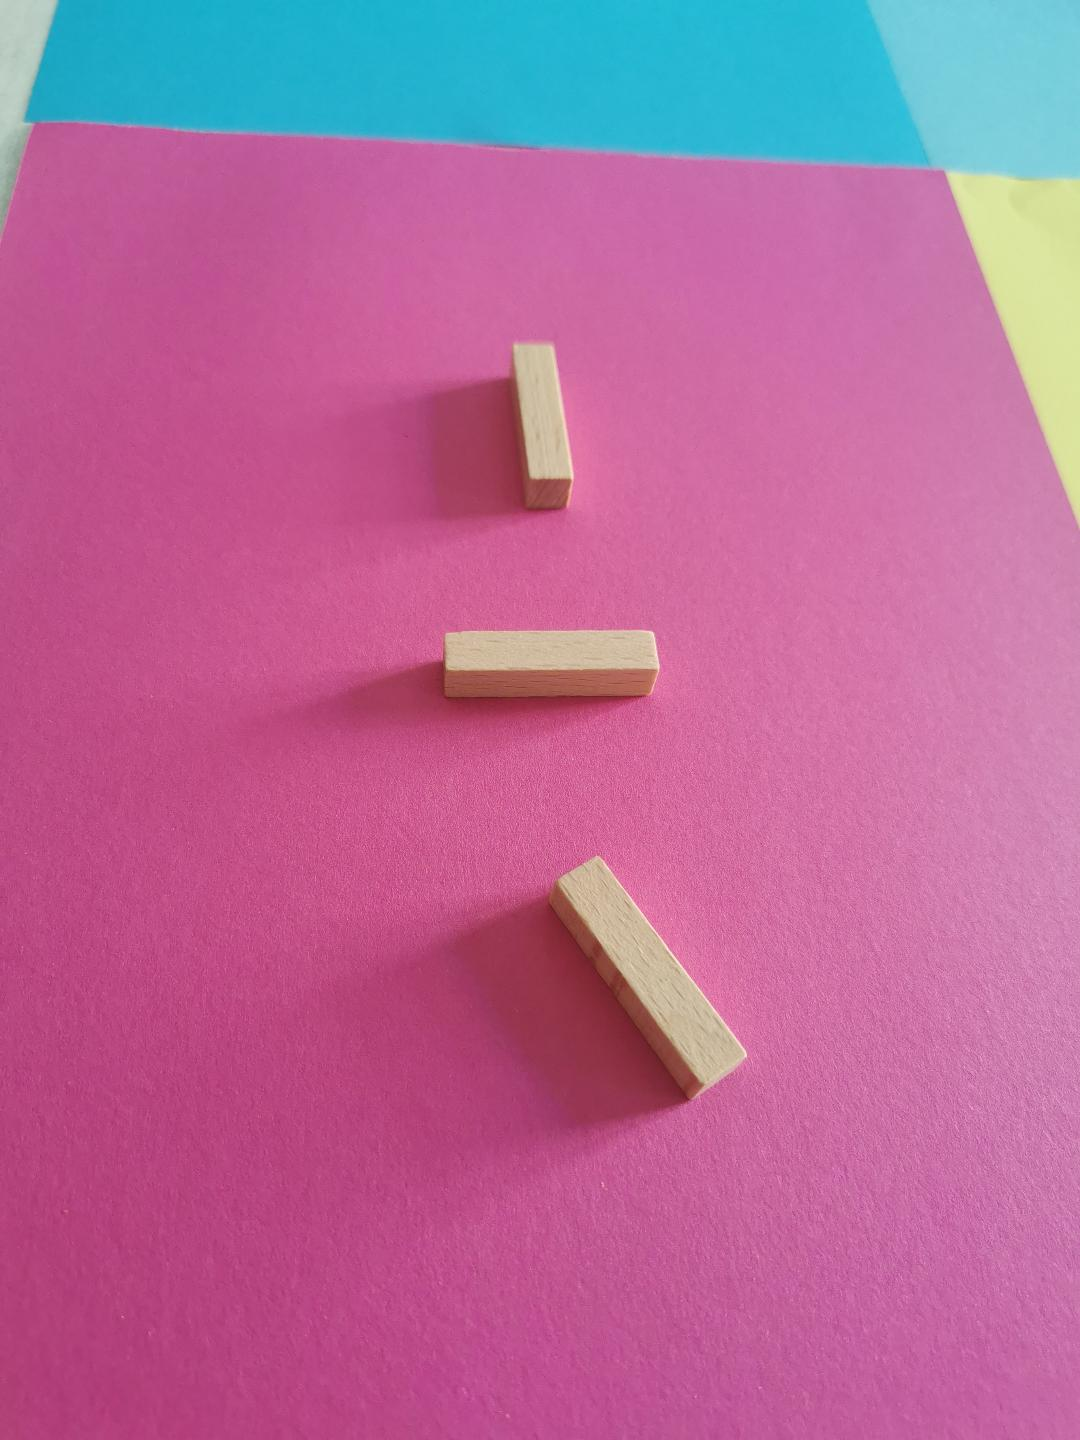jenga: (551, 858, 745, 1100), (445, 630, 658, 697), (512, 344, 574, 509)
